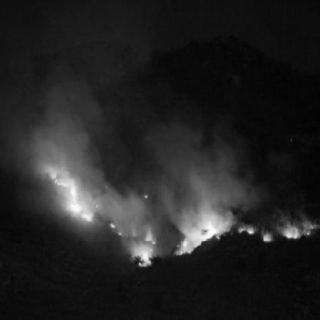Fire: (35, 138, 320, 271)
